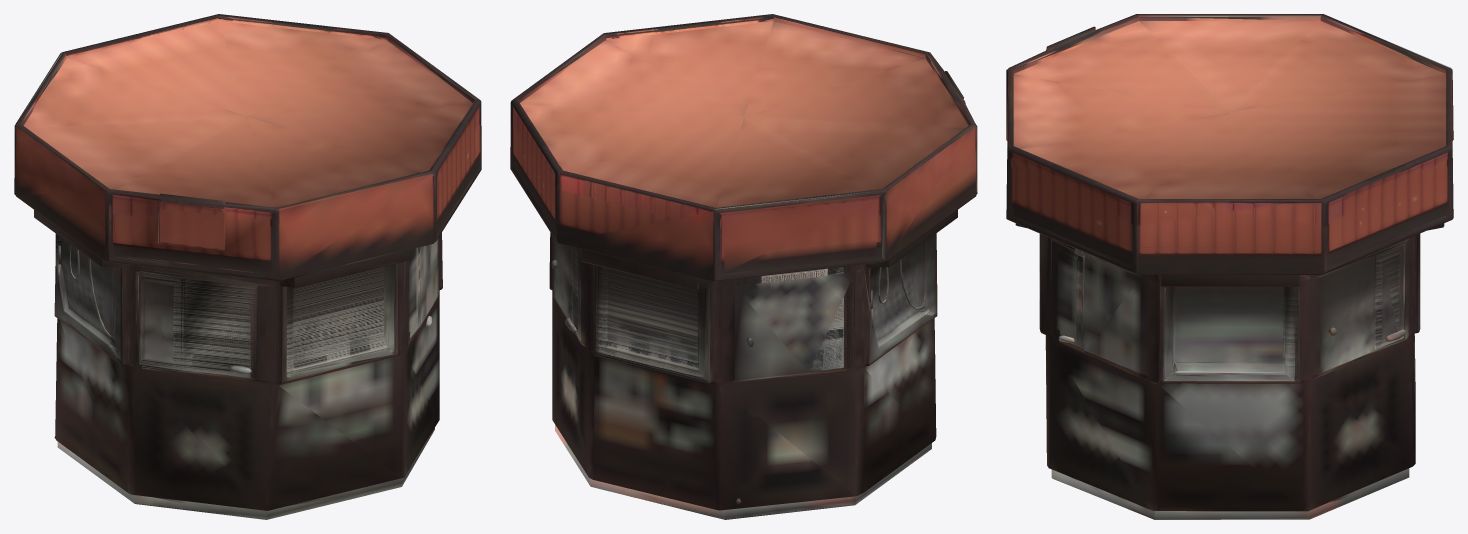
Rendered from newspaper-kiosk-1.glb.
3 views of the same model, side by side, from view 1: azimuth 30°, elevation 25°; view 2: azimuth 150°, elevation 25°; view 3: azimuth 270°, elevation 25° (orthographic). The views are drawn at different scales.
Size of the model in its own units: 1.9 by 1.6 by 1.9.
Materials: 1 (1 with a texture image).
